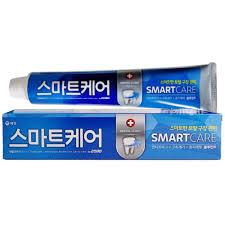toothpaste: (5, 60, 225, 116)
